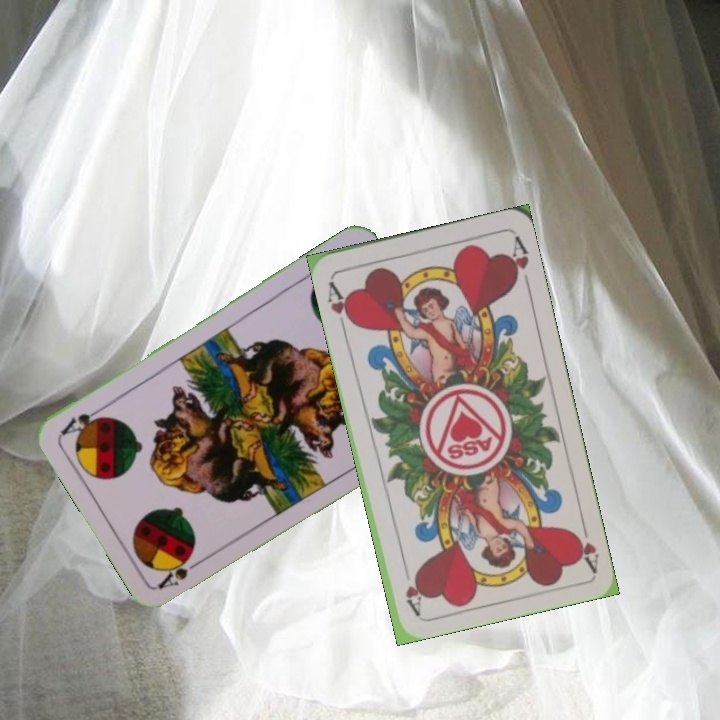HA: (569, 514, 602, 573), (323, 277, 357, 333)
SA: (154, 551, 208, 592)
